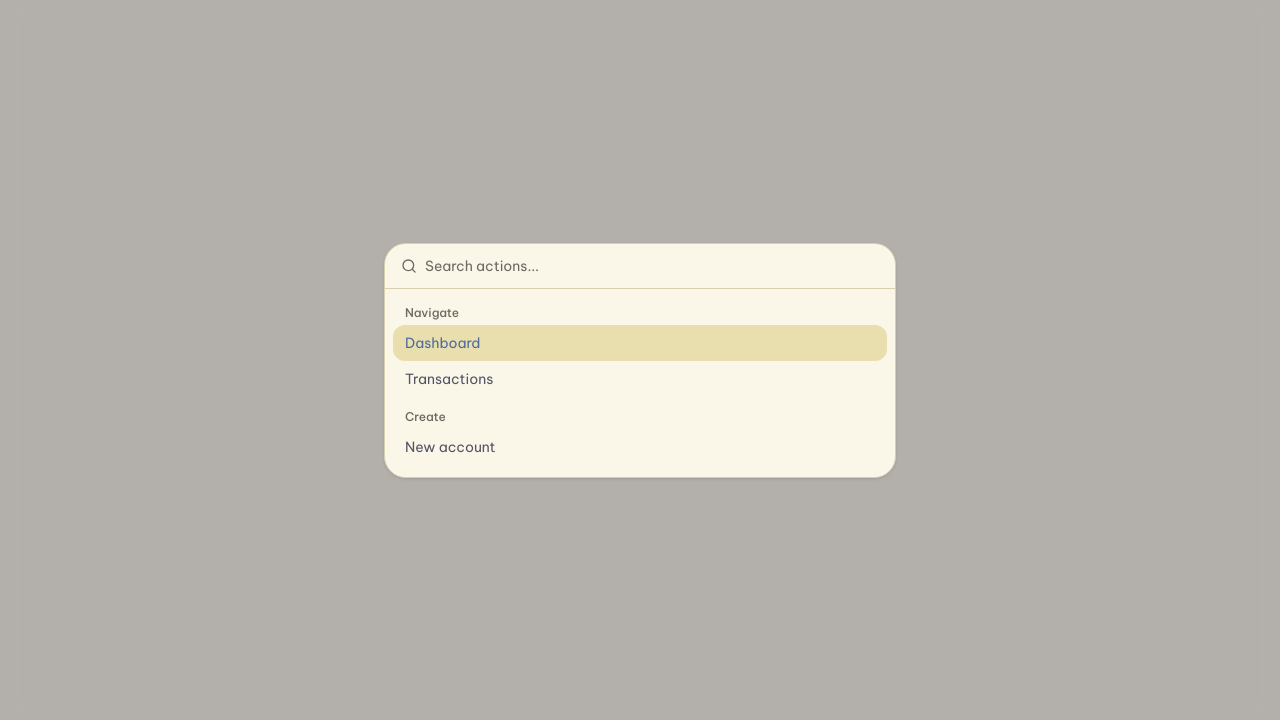
CommandPalette › shows the empty state when nothing matches
Type "zzz-no-match" into the field with placeholder "Search actions...".
click(652, 266); type("zzz-no-match")  # box [425,256,879,276]
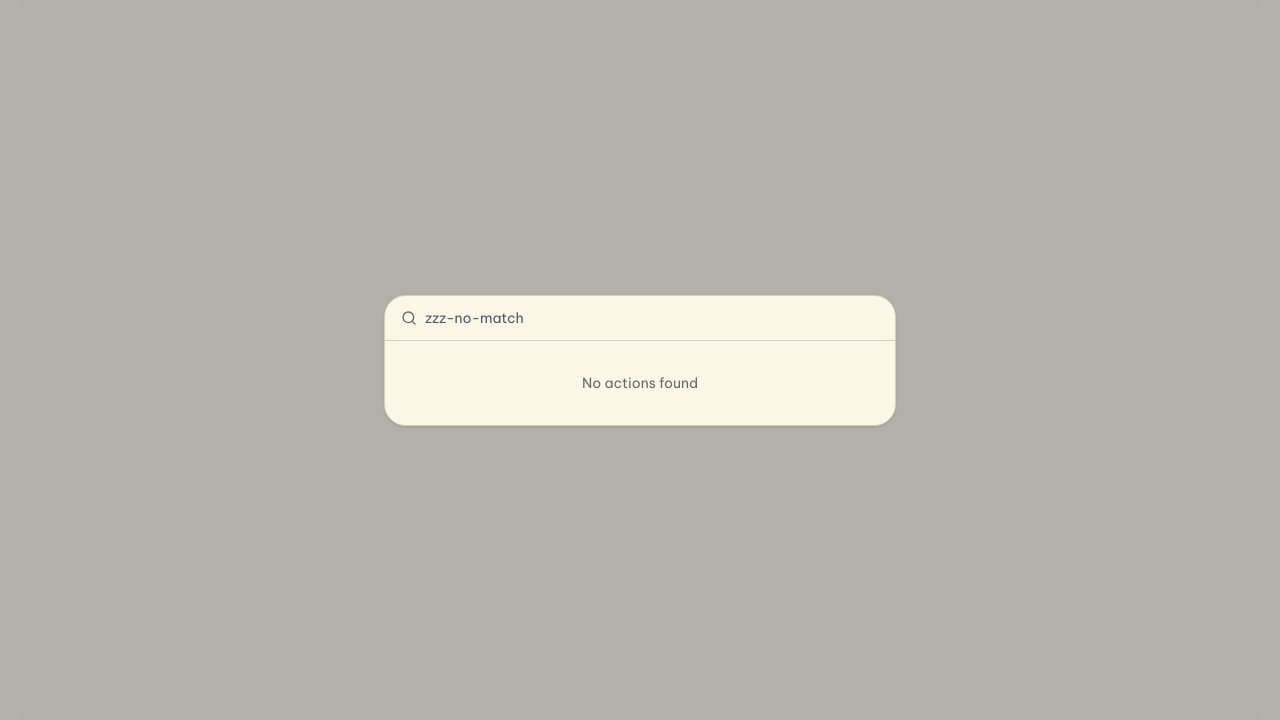
Check: the text "No actions found" is shown, box [582,374,698,392]
